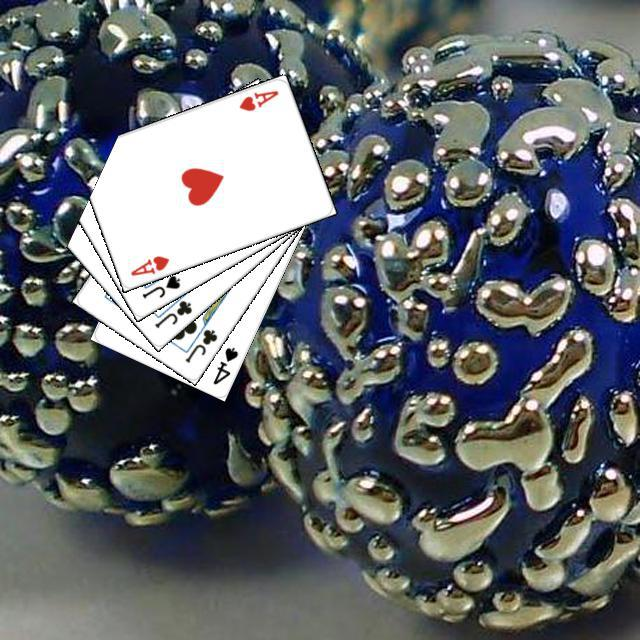4s: (208, 342, 240, 386)
Ah: (234, 85, 280, 113), (126, 250, 171, 278)
Jc: (180, 324, 219, 365), (150, 295, 194, 330)
Js: (137, 270, 182, 300)
